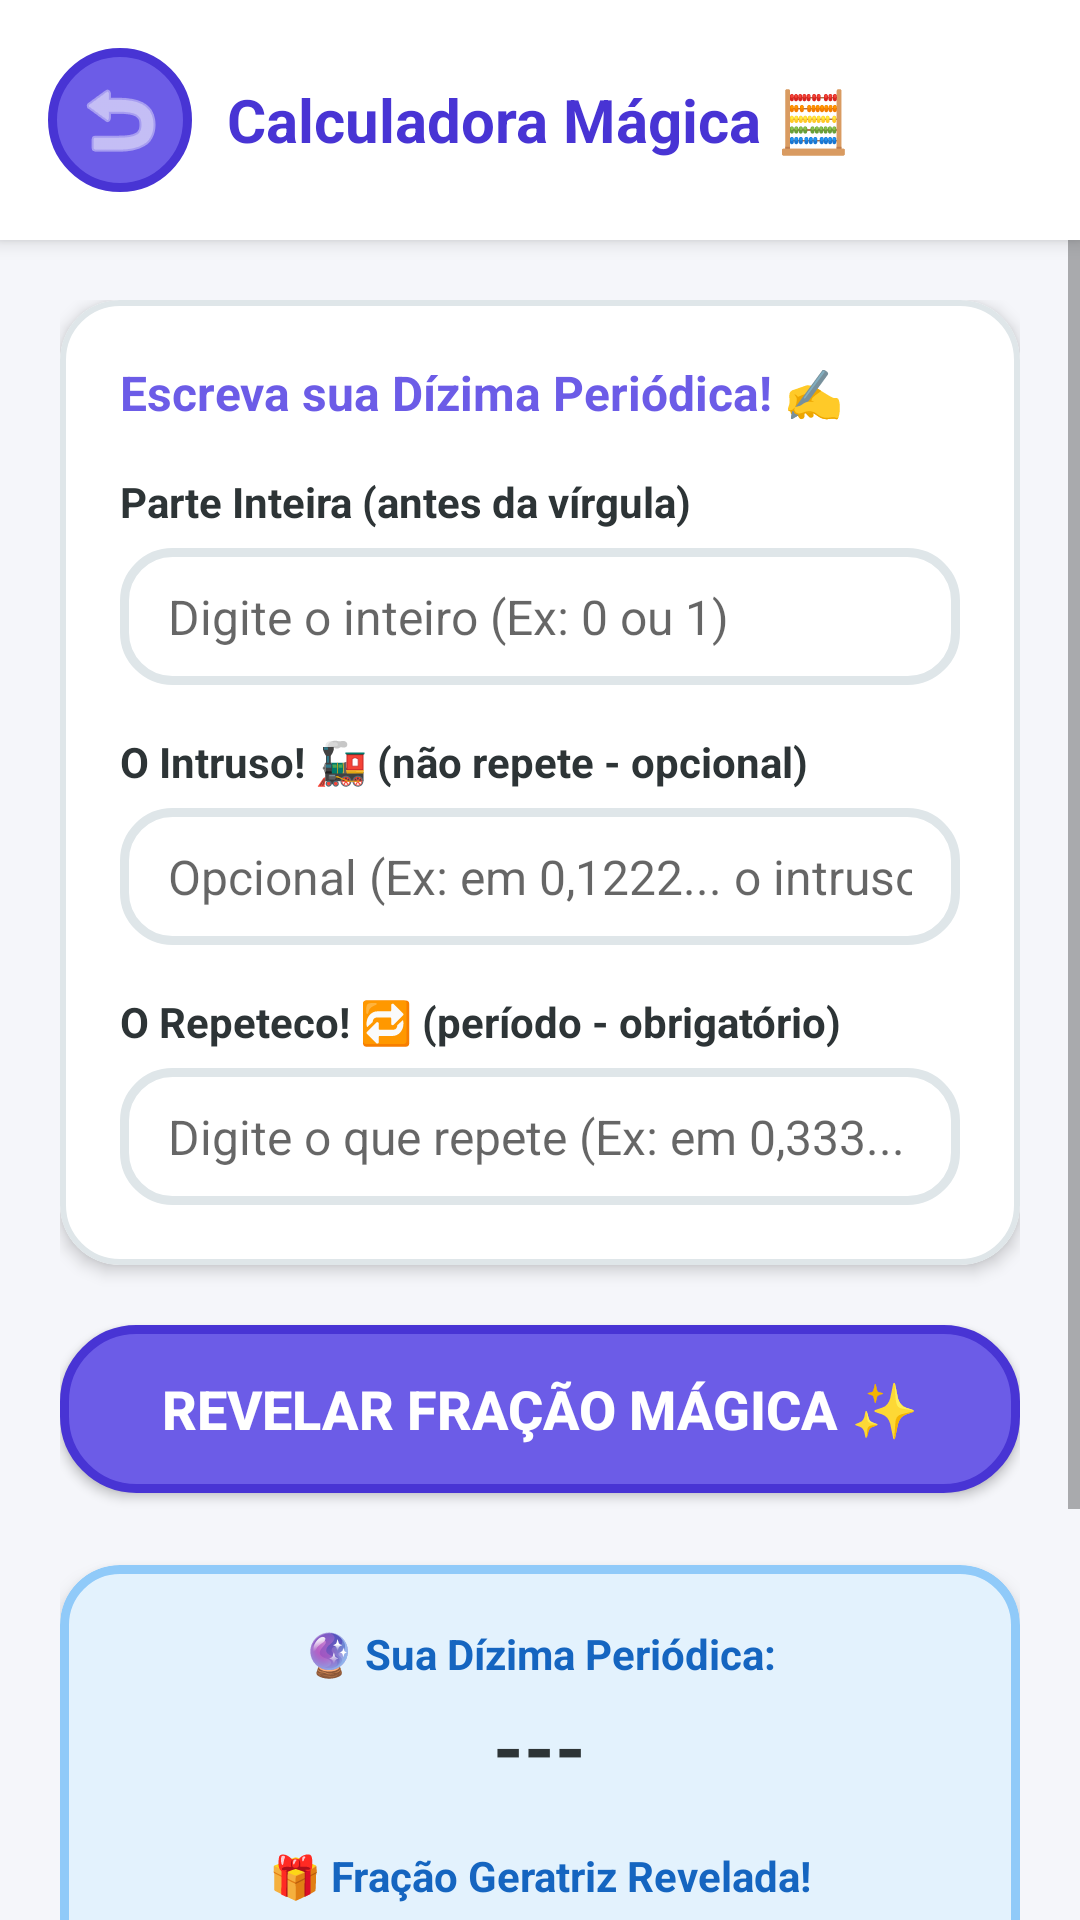

Screen size 1080 x 1920. Icon name, then its center in pixels as point (x, y):
Voltar: point (120, 120)
